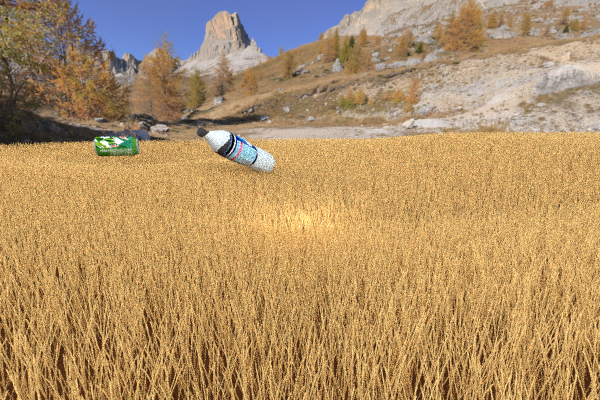bottle: (196, 127, 275, 173)
can: (93, 136, 139, 156), (55, 135, 98, 156)
